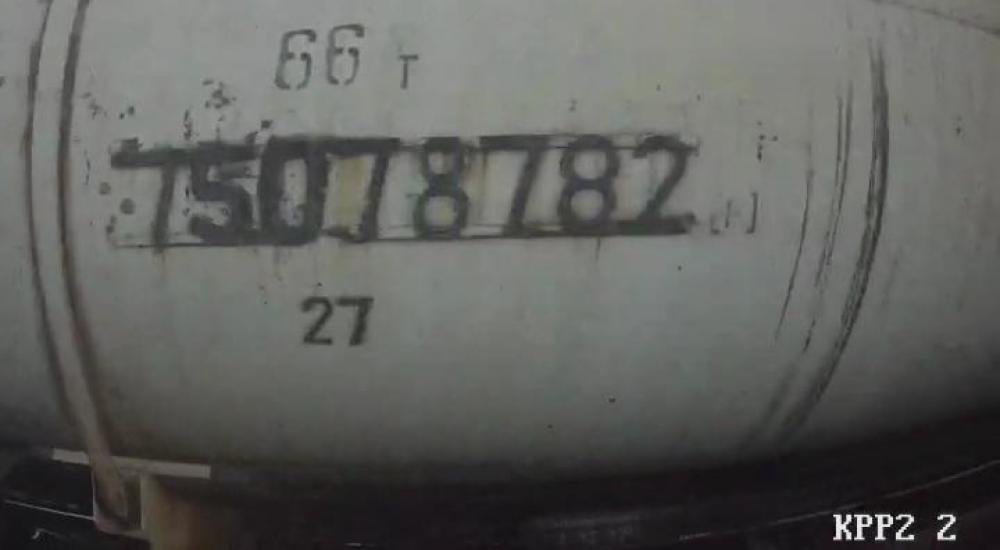Wagon-number: (111, 130, 702, 257)
